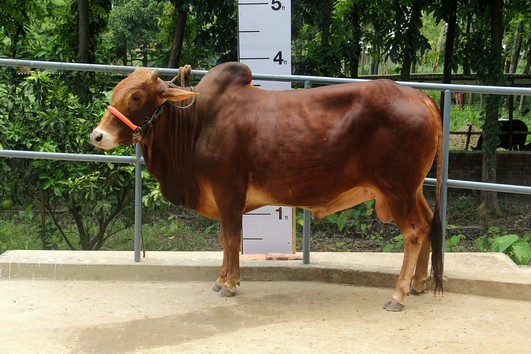cow: (84, 56, 453, 316)
